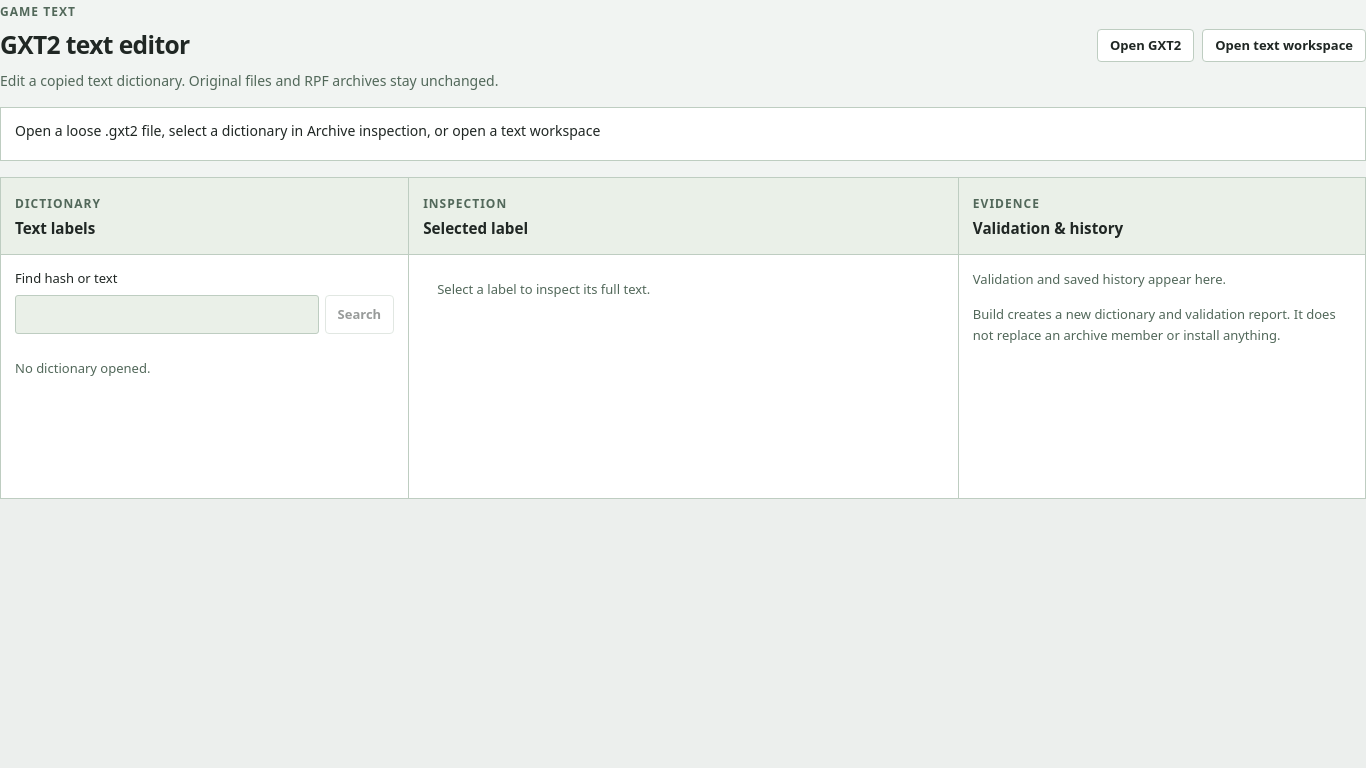
Test: explains the archive binding requirement for loose dictionaries
Click the button "Open text workspace": (1284,45) [1202,29,1365,62]
(page scrolled)
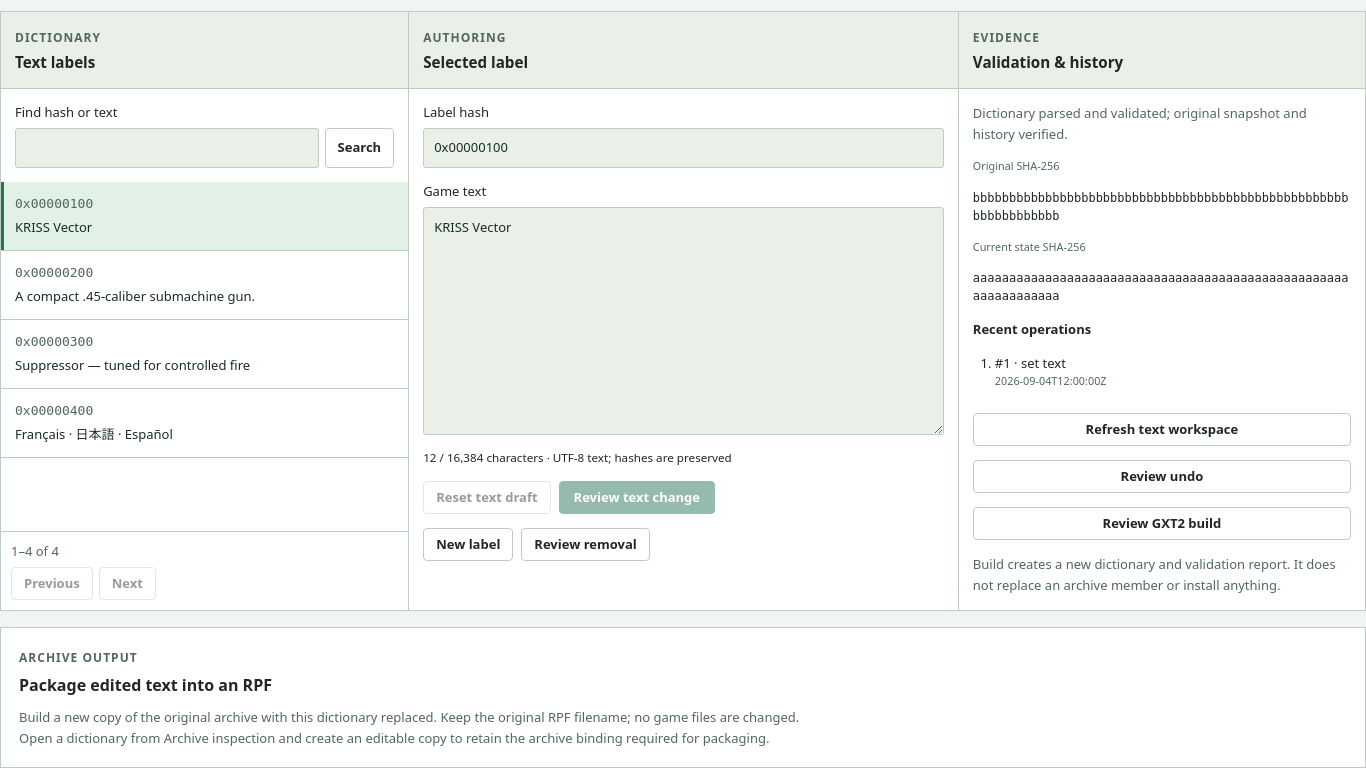
Expected: the text box labelled "Game text" is shown, [423,207,944,435]
Expected: the text "archive binding required for packaging" is shown, [19,729,769,747]
